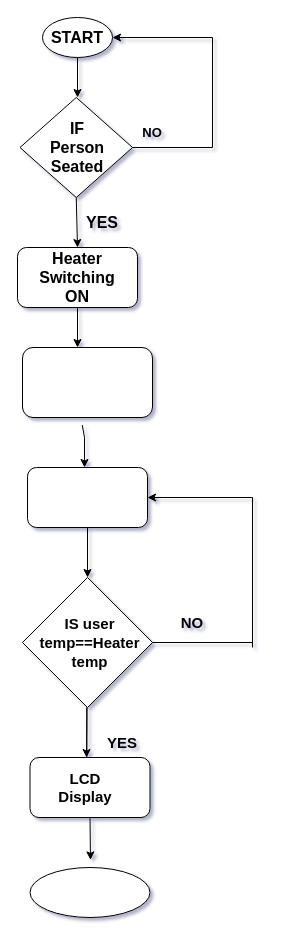
Some shapes in this 284 by 941 pixel diagram are drawn without their labels. The shapes that lost their labels are listed below. From the top down, each one's box as (x1, y1, x2, y2) in pixels, then its label:
(22, 346, 152, 418): Request will be sent to temperature sensor
(26, 466, 148, 528): Set Heater
(29, 866, 150, 918): STOP
